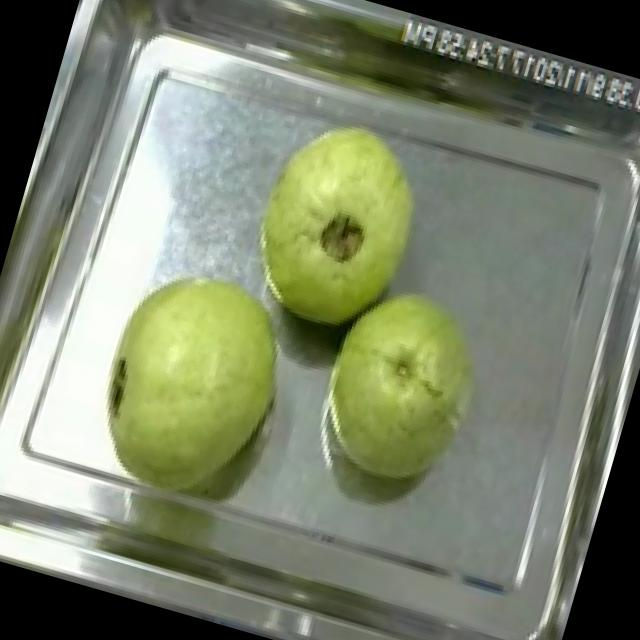Fruit: (76, 245, 314, 513), (224, 94, 451, 354), (294, 265, 506, 504)
